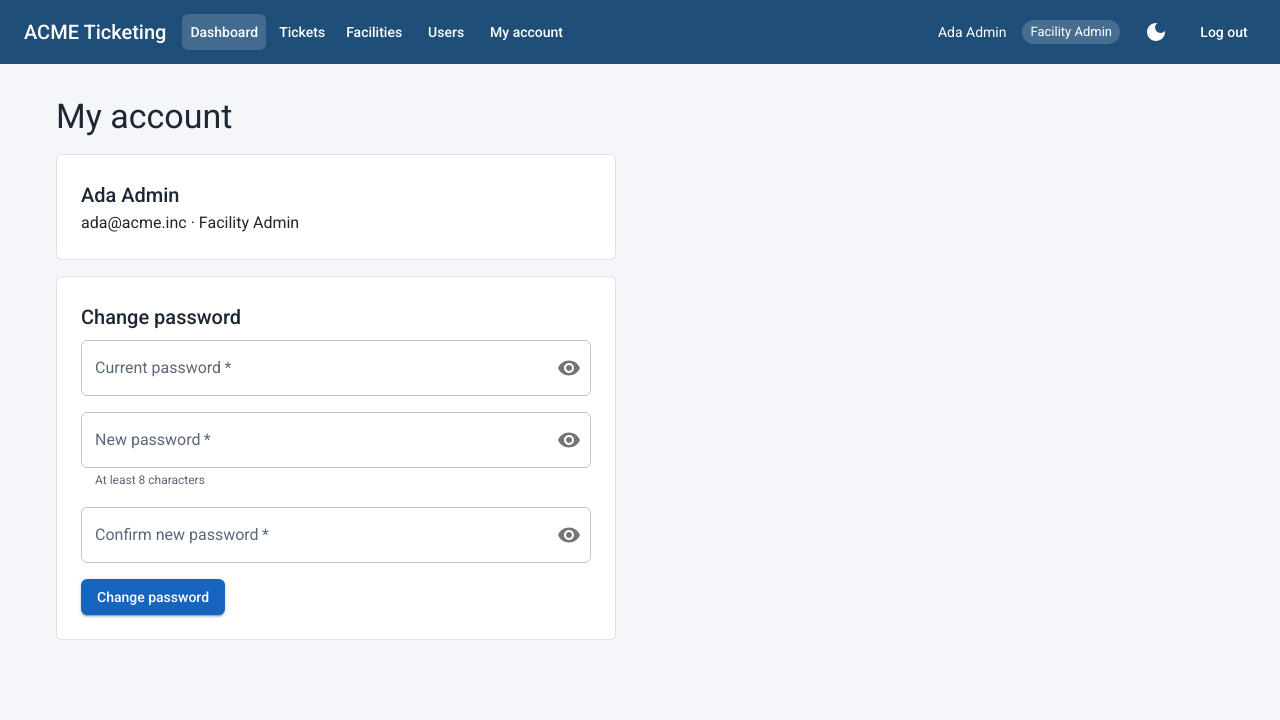
Test case: AccountPage › checks the new password is typed the same twice
Step 1. Type "password1" into the password field labelled "Current password *" → (311, 368), box [81,340,541,396]
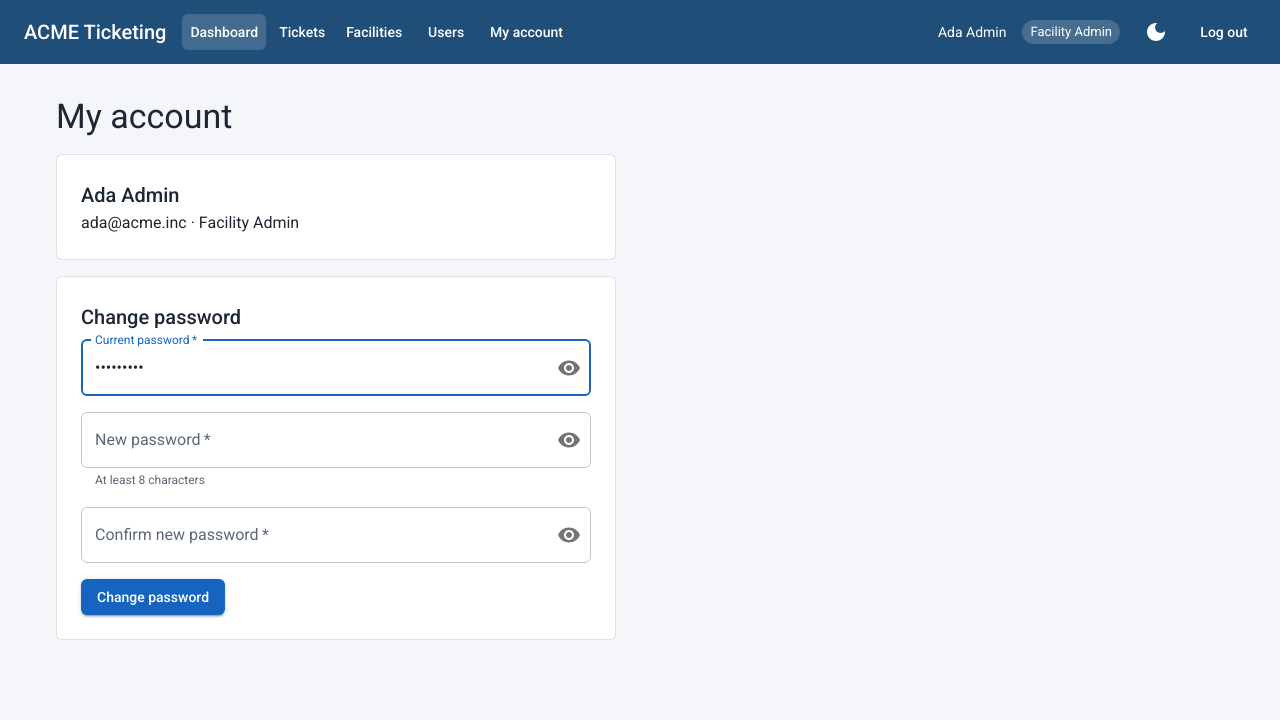
Step 2. Type "newpass123" into the password field labelled "New password *" → (311, 440), box [81,412,541,468]
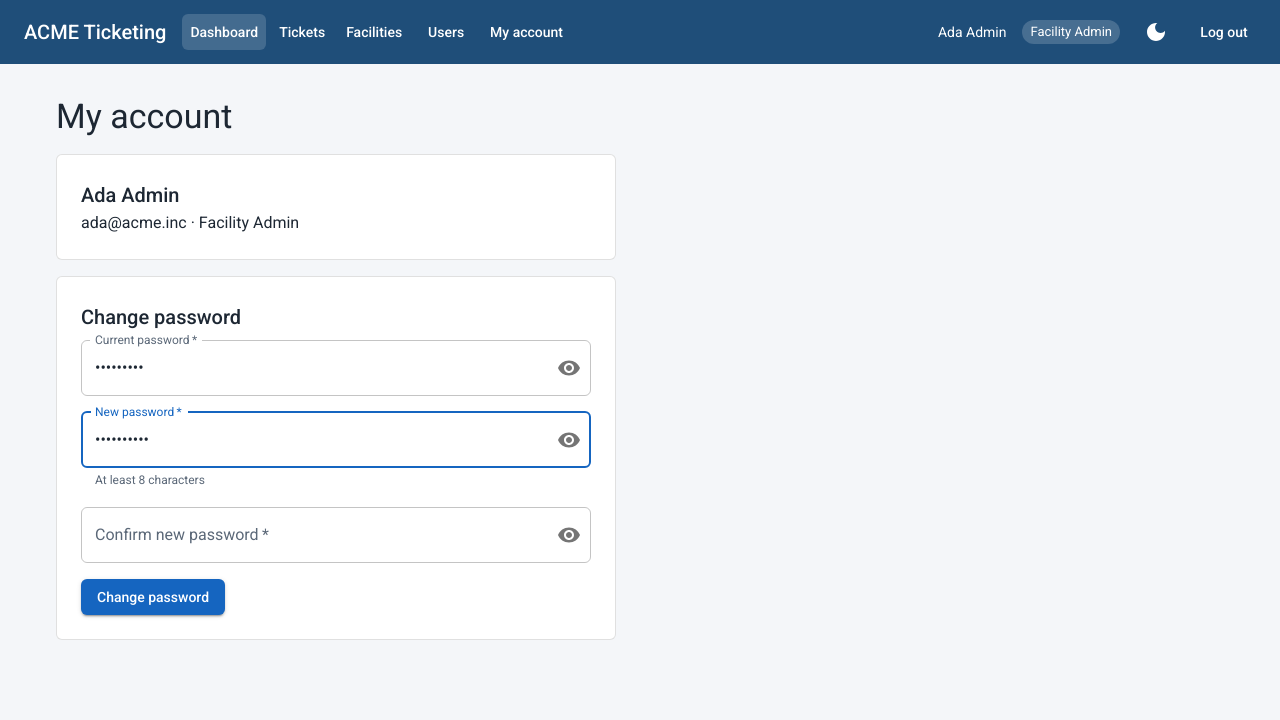
Step 3. Type "different1" into the password field labelled "Confirm new password *" → (311, 535), box [81,507,541,563]
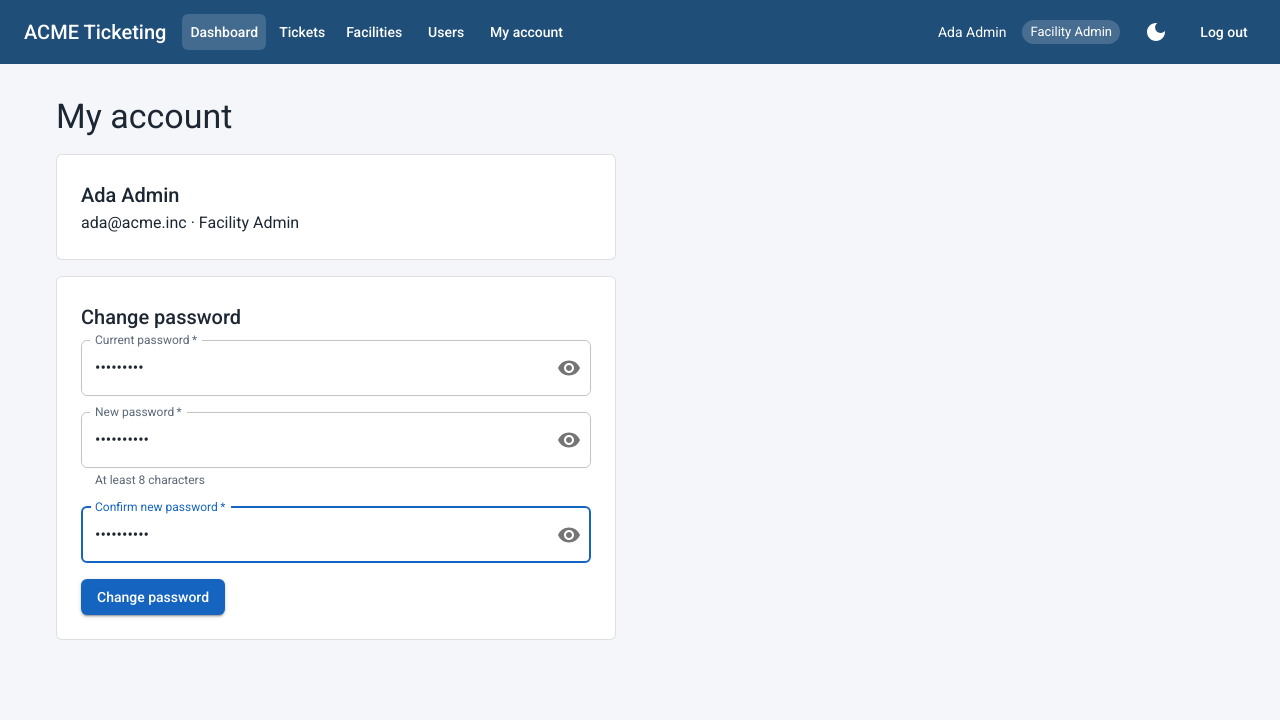
Step 4. Click the button "Change password" → (153, 597), box [81,579,225,615]
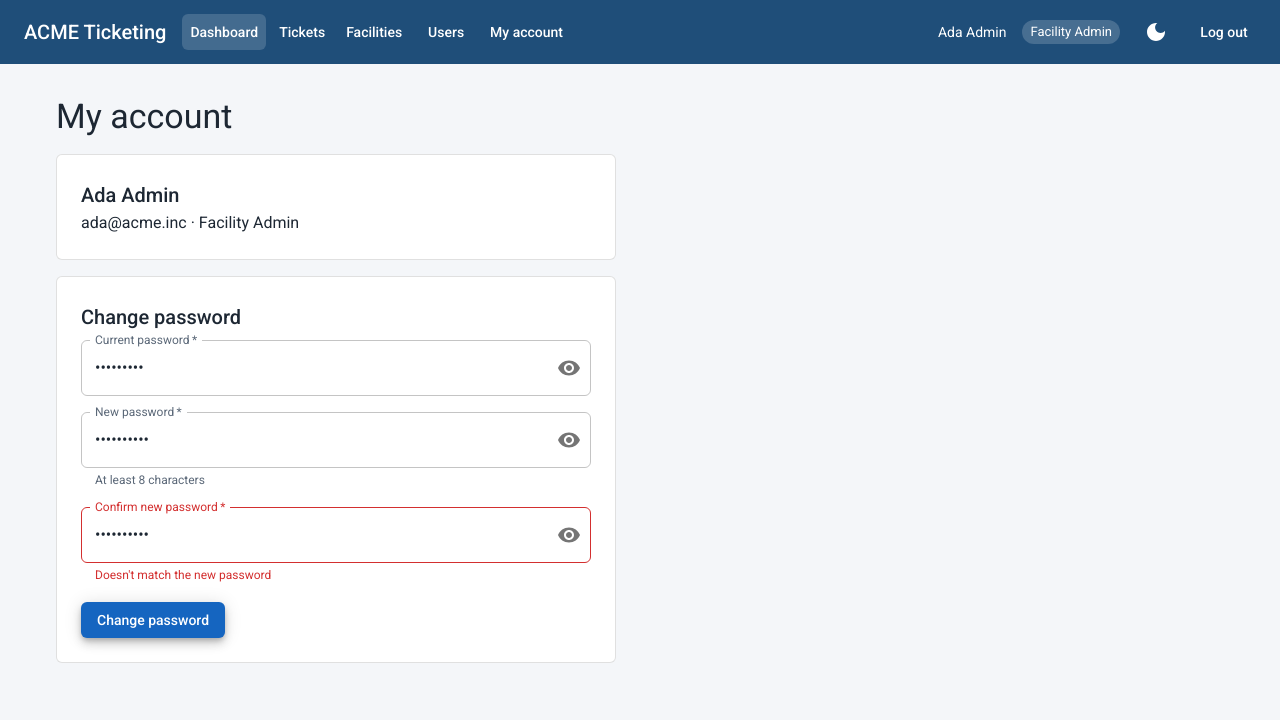
Now the text "Doesn't match the new password" is shown, box [95,568,271,582]
